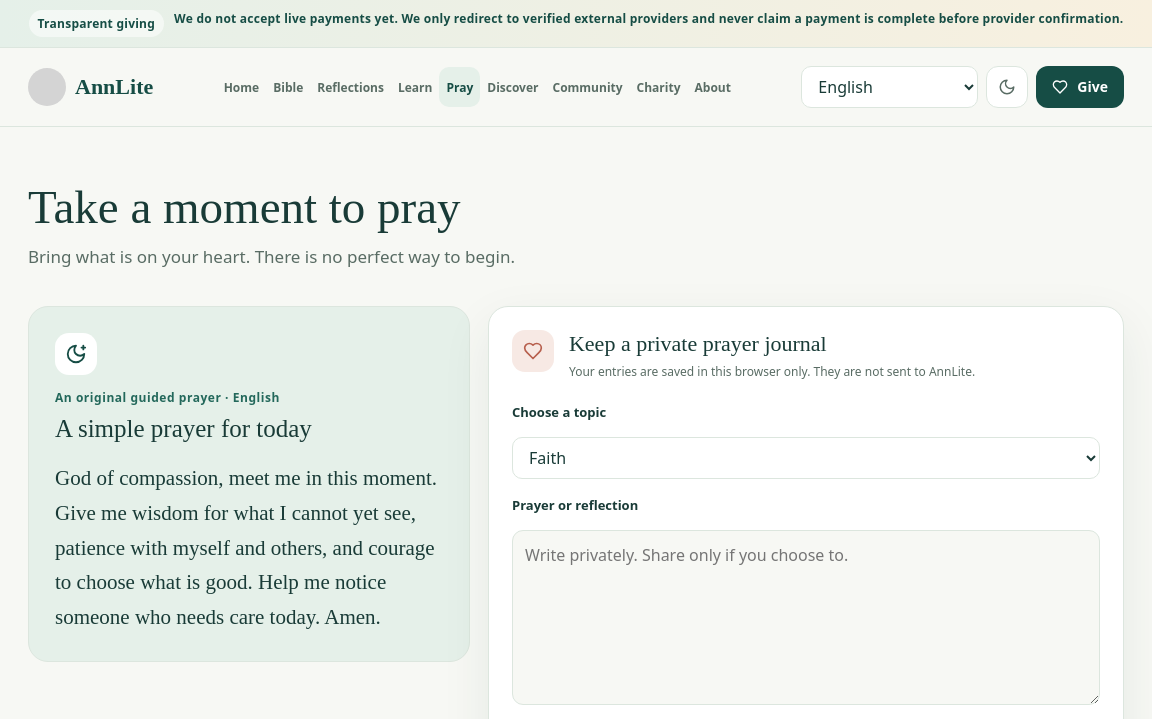
Test: AnnLite web experience › prayer journal stores an entry locally and exposes delete controls
Expected: the navigation bar named "Main navigation" is shown, x1=217 y1=67 x2=738 y2=107
Step 1. Select "Gratitude" in the dropdown labelled "Choose a topic" → (806, 458), box x1=512 y1=437 x2=1100 y2=479
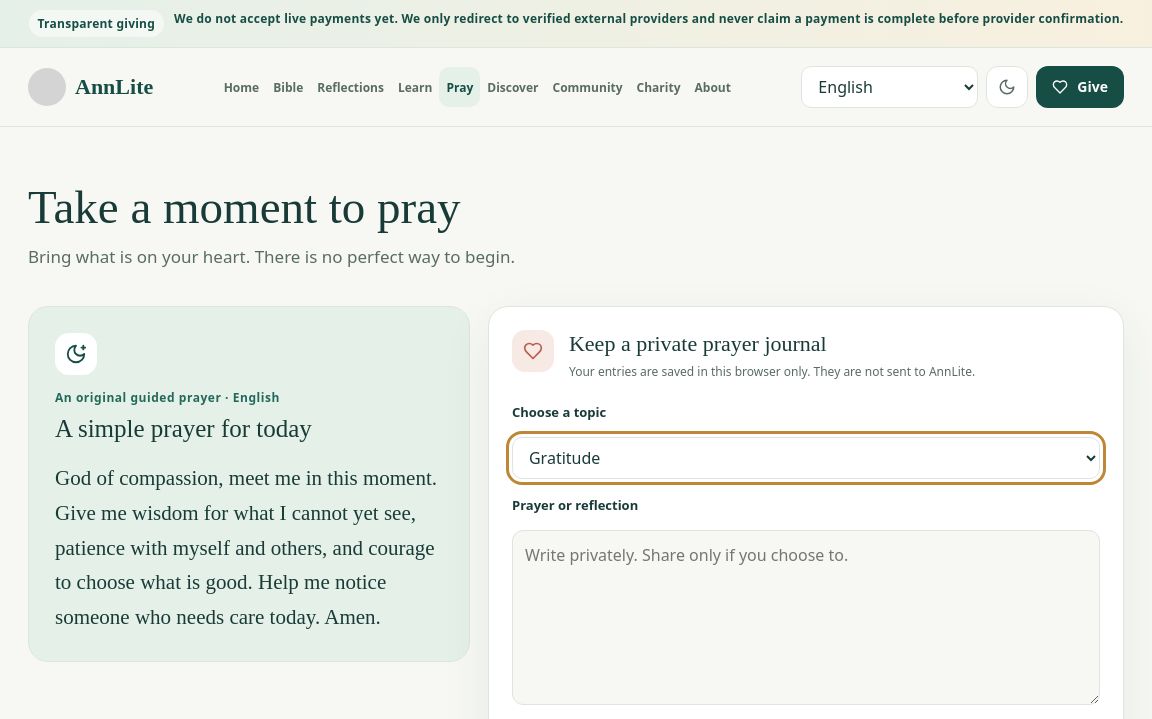
Step 2. Type "Thankful for a quiet morning." into the text box labelled "Prayer or reflection" → (806, 618), box x1=512 y1=530 x2=1100 y2=705
(page scrolled)
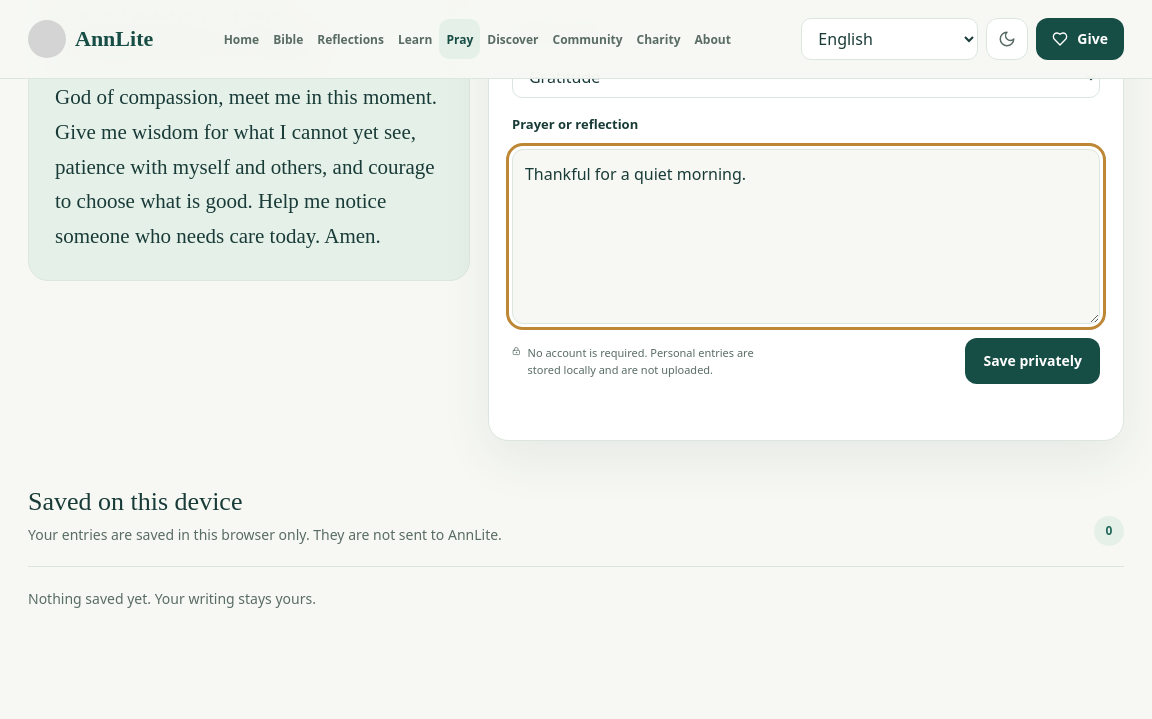
Step 3. Click the button "Save privately" → (1033, 361), box x1=966 y1=338 x2=1100 y2=384
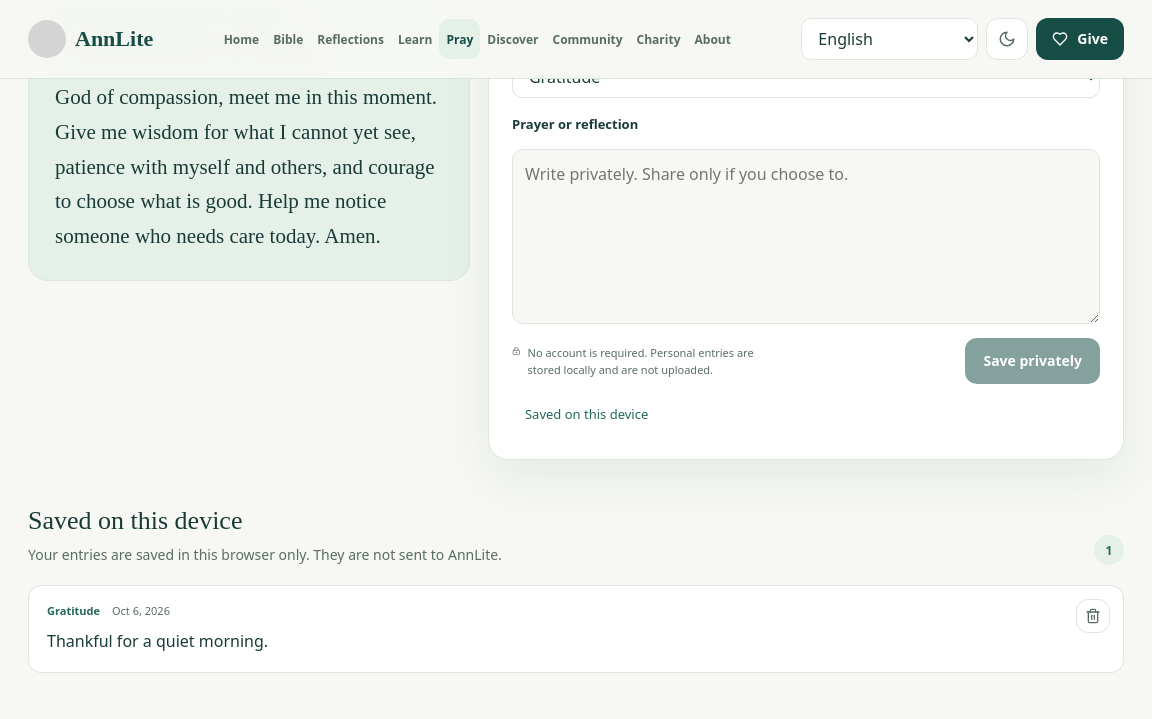
Now the text "Thankful for a quiet morning." is shown, box x1=47 y1=630 x2=268 y2=652
Now the button named "Delete entry: Gratitude" is shown, box x1=1076 y1=599 x2=1110 y2=633
